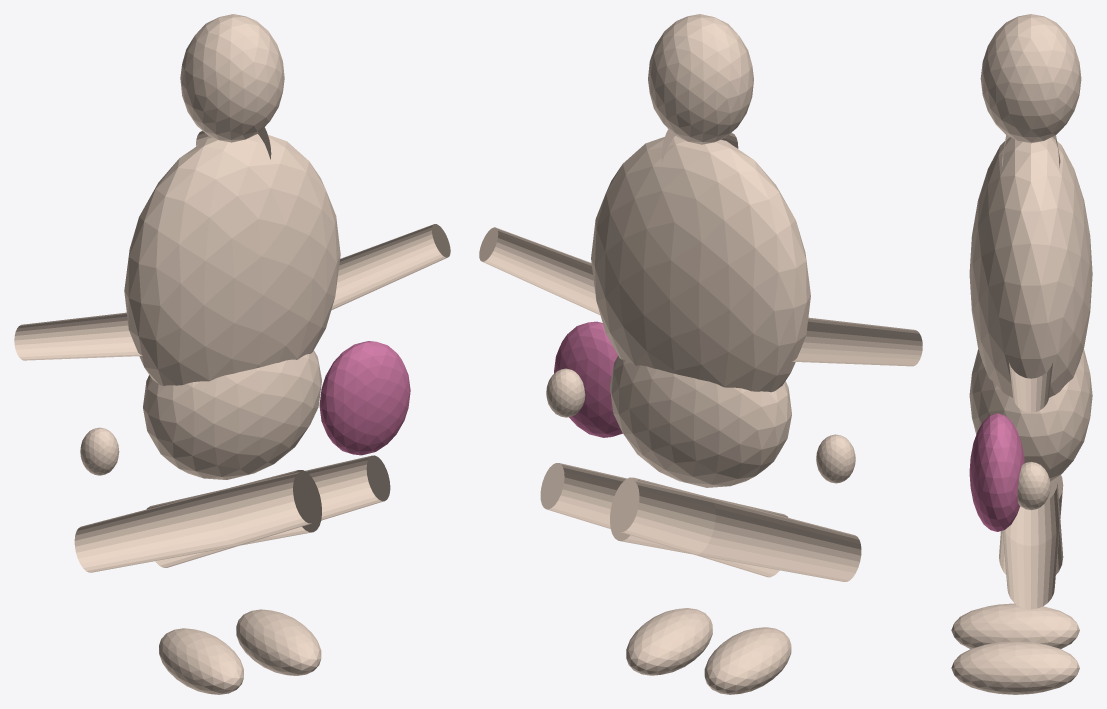
File: masculino-bolso.glb
3 views of the same model, side by side, from view 1: azimuth 30°, elevation 25°; view 2: azimuth 150°, elevation 25°; view 3: azimuth 270°, elevation 25° (orthographic).
Visible parts, largest first — view 1: Avatar0, Avatar1, Avatar3, Avatar4, Avatar8, Prenda, Avatar10, Avatar6, Avatar9, Avatar5, Avatar7; view 2: Avatar0, Avatar1, Avatar3, Avatar4, Avatar8, Avatar10, Avatar6, Prenda, Avatar5, Avatar9, Avatar7, Avatar11; view 3: Avatar0, Avatar3, Avatar1, Avatar9, Prenda, Avatar5, Avatar8, Avatar4, Avatar10, Avatar11.
Part boxes in pixels (bbox=[...]): Avatar0: bbox=[124, 134, 340, 385]; Avatar1: bbox=[143, 350, 321, 479]; Avatar3: bbox=[180, 14, 284, 142]; Avatar4: bbox=[74, 470, 321, 572]; Avatar8: bbox=[146, 455, 390, 567]; Prenda: bbox=[319, 341, 410, 455]; Avatar10: bbox=[331, 224, 450, 310]; Avatar6: bbox=[14, 312, 142, 360]; Avatar9: bbox=[236, 609, 321, 675]; Avatar5: bbox=[159, 628, 243, 694]; Avatar7: bbox=[80, 427, 119, 475]; Avatar0: bbox=[591, 136, 810, 392]; Avatar1: bbox=[610, 356, 791, 487]; Avatar3: bbox=[648, 14, 753, 144]; Avatar4: bbox=[610, 477, 861, 581]; Avatar8: bbox=[540, 463, 788, 577]; Avatar10: bbox=[479, 227, 600, 314]; Avatar6: bbox=[792, 317, 922, 366]; Prenda: bbox=[554, 321, 622, 437]; Avatar5: bbox=[704, 627, 791, 694]; Avatar9: bbox=[626, 608, 712, 675]; Avatar7: bbox=[816, 434, 855, 483]; Avatar11: bbox=[546, 368, 585, 417]; Avatar0: bbox=[969, 137, 1092, 397]; Avatar3: bbox=[980, 14, 1081, 143]; Avatar1: bbox=[969, 349, 1092, 481]; Avatar9: bbox=[951, 641, 1079, 694]; Prenda: bbox=[969, 413, 1024, 531]; Avatar5: bbox=[951, 603, 1079, 648]; Avatar8: bbox=[1002, 475, 1063, 609]; Avatar4: bbox=[999, 483, 1063, 574]; Avatar10: bbox=[1009, 362, 1053, 412]; Avatar11: bbox=[1017, 462, 1050, 510].
Size of the model in its own units: 1.75 by 2.58 by 0.505.
